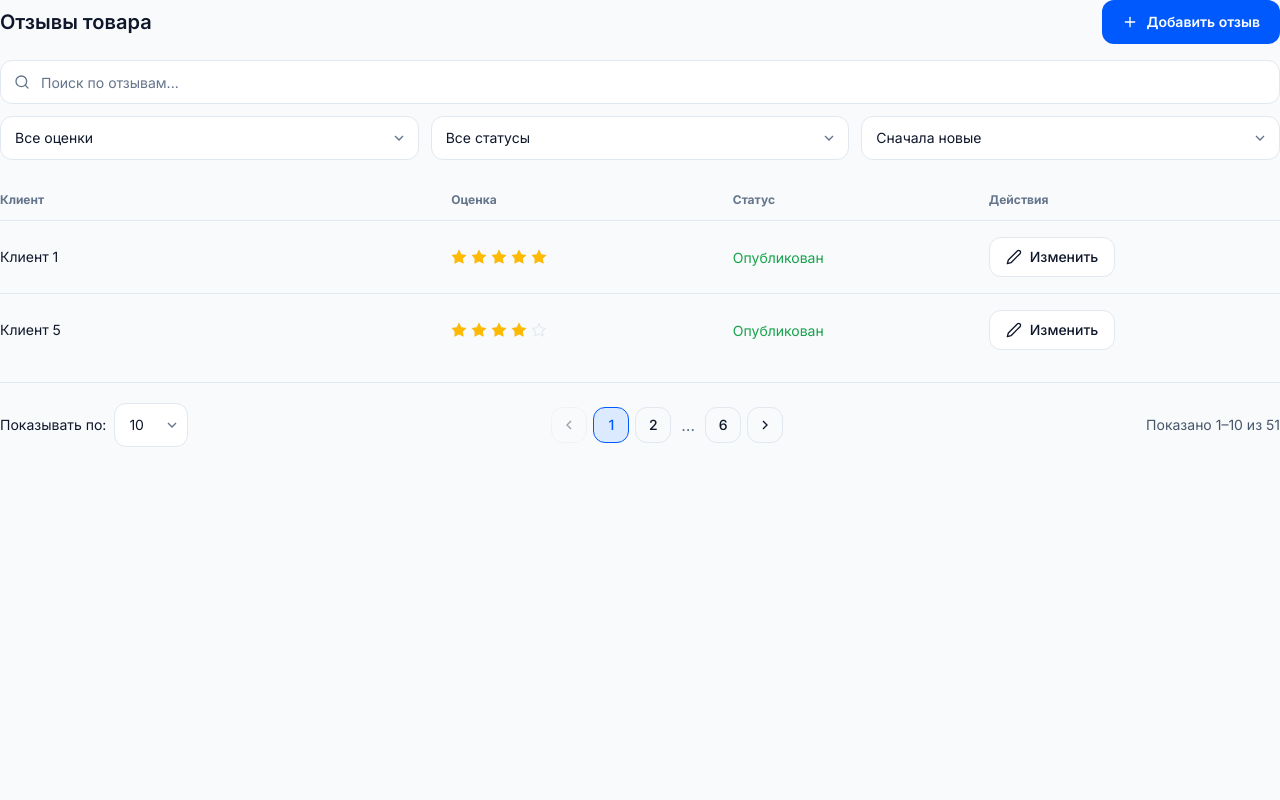
Test: product review administration › opens the creation form inside a modal dialog with current date/time, no delete and the required primary label
Expected: the text "Клиент 1" is shown, [0,220,435,294]
Click the button "Добавить отзыв". click: (1191, 22)
box: [1102,0,1279,44]
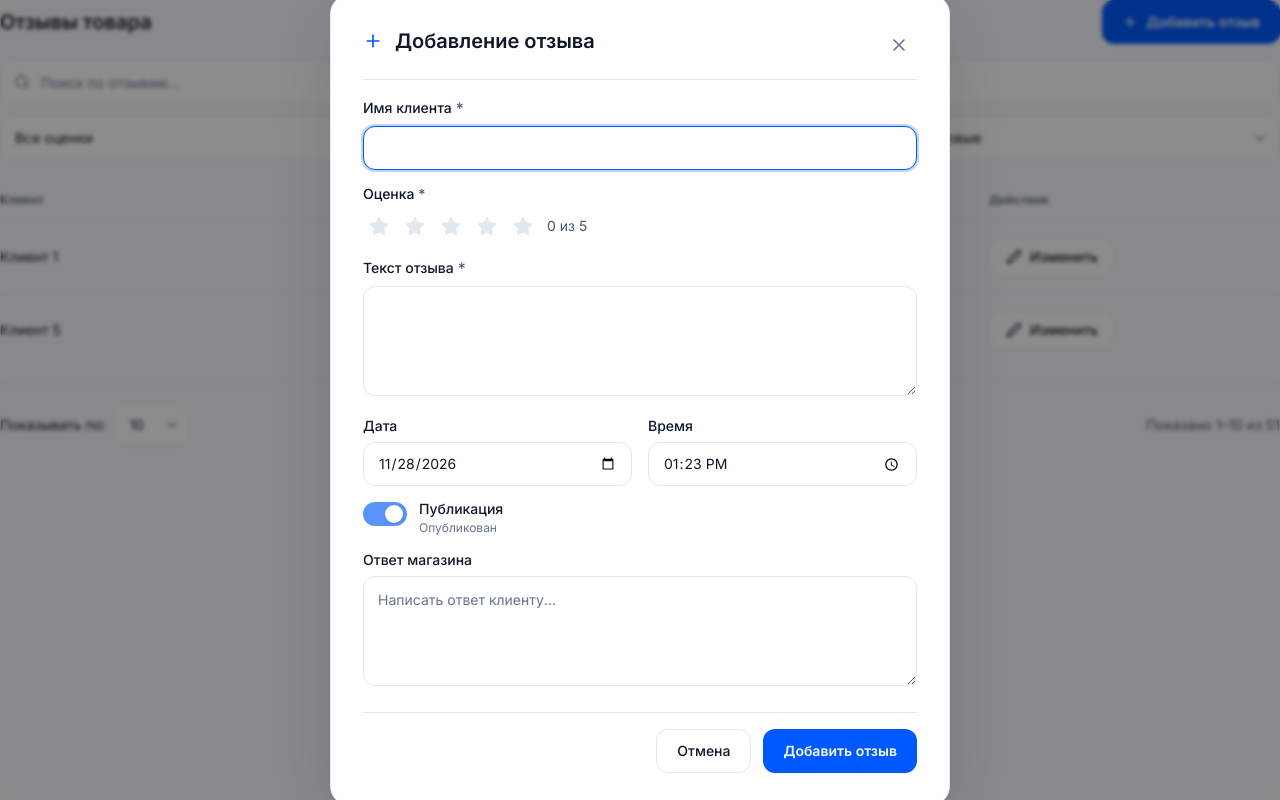
Now the heading "Добавление отзыва" is shown, box [395,27,595,55]
Now the field labelled "Имя клиента" is empty, box [363,126,917,170]
Now the text box labelled "Текст отзыва" is empty, box [363,286,917,396]
